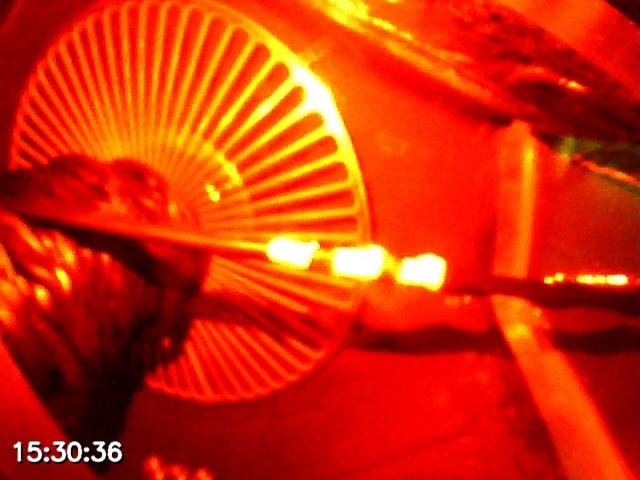white-dots: (264, 237, 448, 291)
